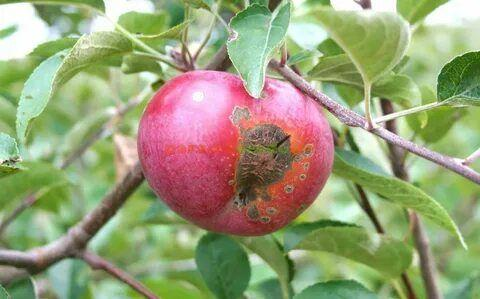Apple: (136, 70, 336, 238)
